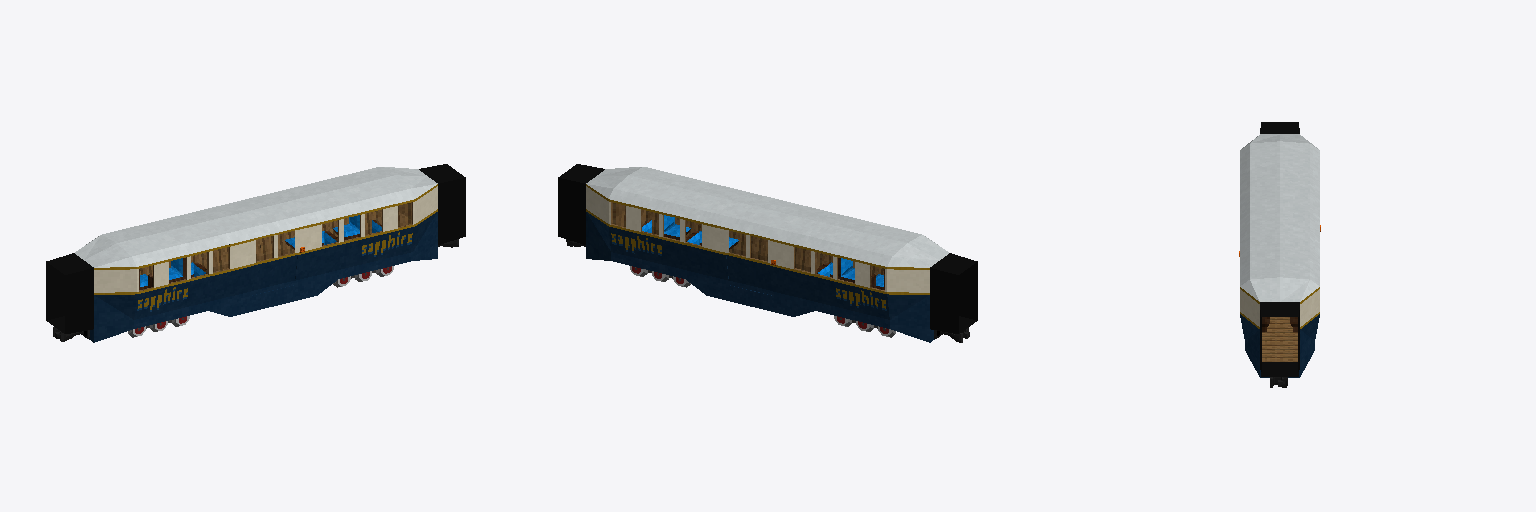
3 renders of one model, left to right at view 1: azimuth 30°, elevation 25°; view 2: azimuth 150°, elevation 25°; view 3: azimuth 270°, elevation 25°, orthographic.
Parts seen in each view (by area): view 1: FRAME_ext_roof, FRAME_ext_body.002, FRAME_ext_body.001, connector.001, connector.002, FRAME_int_body.001, DOOR_6_CG_doorleft_NOTOUCH, DOOR_5_CG_doorleft_NOTOUCH, FRAME_int_body.002; view 2: FRAME_ext_roof, FRAME_ext_body.002, FRAME_ext_body.001, connector.001, connector.002, FRAME_int_body.001, DOOR_4_CG_doorright_NOTOUCH, DOOR_3_CG_doorright_NOTOUCH, FRAME_int_body.002; view 3: FRAME_ext_roof, FRAME_ext_body.001, FRAME_int_floor, connector.002.
Boxes of the visible parts, <box> form: FRAME_ext_roof: <box>75,167,437,267</box>; FRAME_ext_body.002: <box>89,239,273,342</box>; FRAME_ext_body.001: <box>274,184,437,305</box>; connector.001: <box>46,253,93,333</box>; connector.002: <box>419,164,465,244</box>; FRAME_int_body.001: <box>260,202,412,259</box>; DOOR_6_CG_doorleft_NOTOUCH: <box>273,228,297,289</box>; DOOR_5_CG_doorleft_NOTOUCH: <box>252,233,275,294</box>; FRAME_int_body.002: <box>139,247,229,291</box>; FRAME_ext_roof: <box>586,167,948,267</box>; FRAME_ext_body.002: <box>750,239,934,342</box>; FRAME_ext_body.001: <box>586,184,749,305</box>; connector.001: <box>930,253,977,333</box>; connector.002: <box>558,164,604,244</box>; FRAME_int_body.001: <box>611,202,763,259</box>; DOOR_4_CG_doorright_NOTOUCH: <box>726,228,750,289</box>; DOOR_3_CG_doorright_NOTOUCH: <box>748,233,771,294</box>; FRAME_int_body.002: <box>794,247,884,291</box>; FRAME_ext_roof: <box>1240,134,1319,301</box>; FRAME_ext_body.001: <box>1240,287,1319,377</box>; FRAME_int_floor: <box>1262,317,1297,361</box>; connector.002: <box>1260,302,1299,376</box>.
Size of the model in its own units: 11.5 by 2.56 by 2.06.
7 materials, 7 textured.